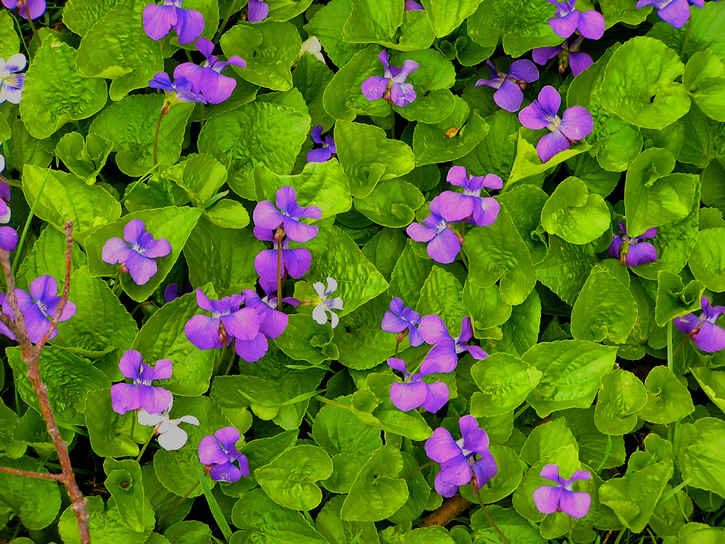violet: (150, 49, 261, 121), (104, 225, 189, 308), (515, 87, 601, 167), (421, 415, 506, 488), (10, 282, 85, 364), (241, 184, 315, 260), (433, 169, 521, 228), (100, 357, 182, 418), (415, 316, 493, 376), (372, 360, 441, 427), (413, 214, 478, 269), (361, 53, 417, 108)
